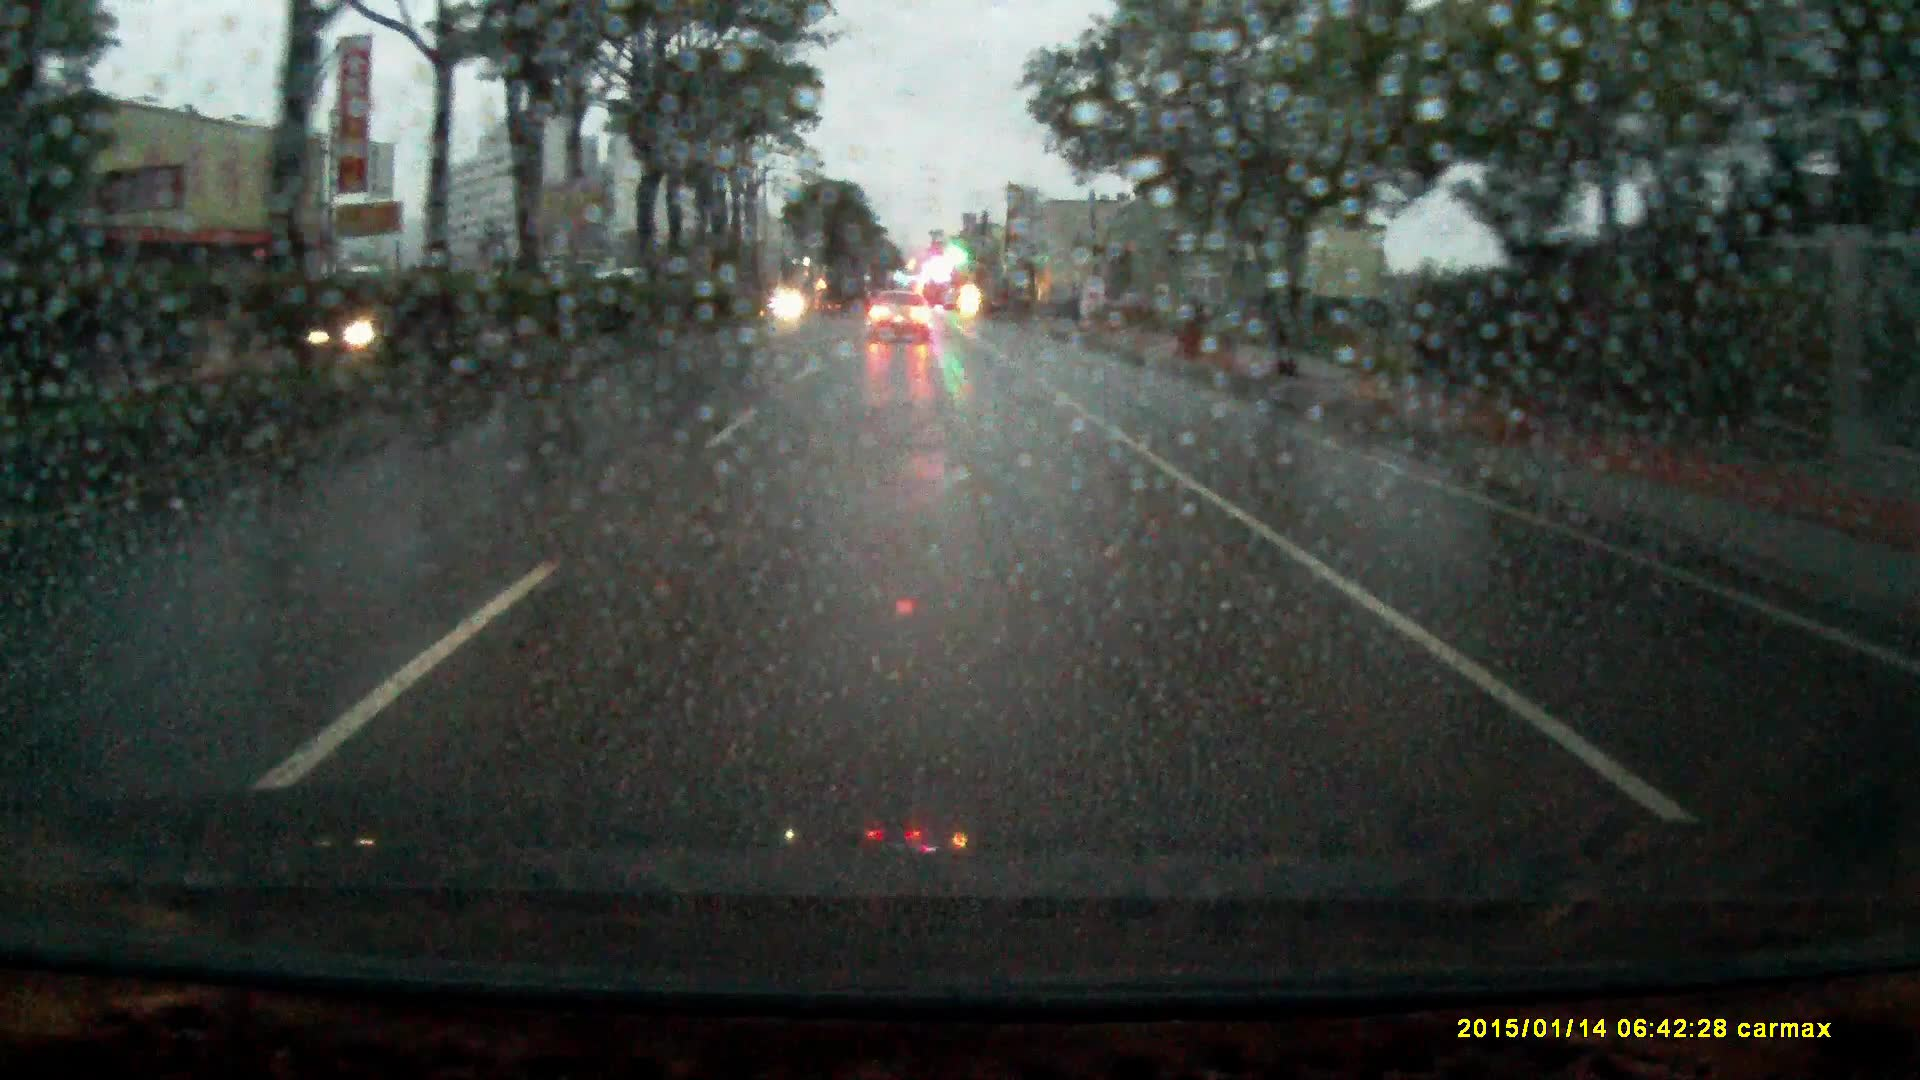vehicle: (872, 290, 935, 342)
